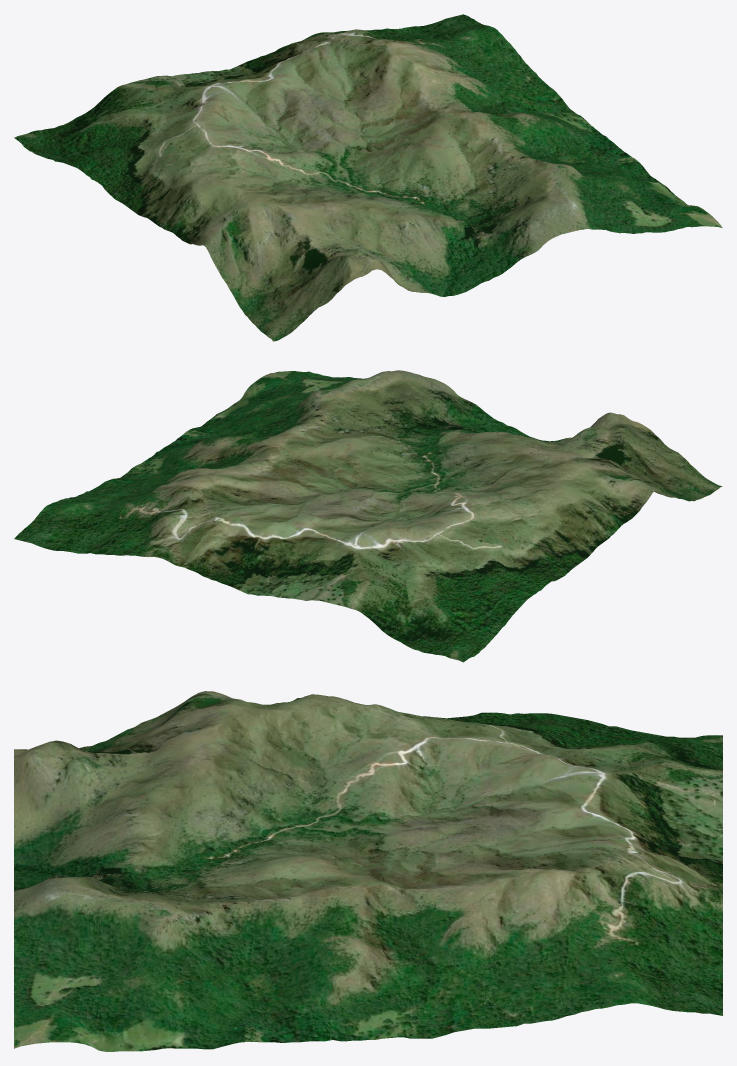
File: cerro.fbx
3 renders of one model, top to bottom at view 1: azimuth 30°, elevation 25°; view 2: azimuth 150°, elevation 25°; view 3: azimuth 270°, elevation 25°, orthographic. The views are drawn at different scales.
Visible parts, largest first — view 1: Plane; view 2: Plane; view 3: Plane.
Part boxes in pixels (x1=…): Plane: x1=14, y1=14, x2=722, y2=341; Plane: x1=14, y1=370, x2=722, y2=662; Plane: x1=14, y1=691, x2=722, y2=1051.
Bounding box in the file's own units: 400 × 59.61 × 400.
Materials: 1 (1 with a texture image).
